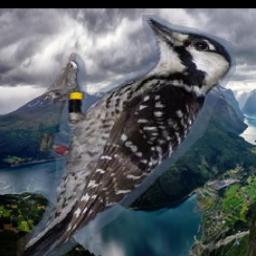Woodpecker: (17, 15, 236, 256)
